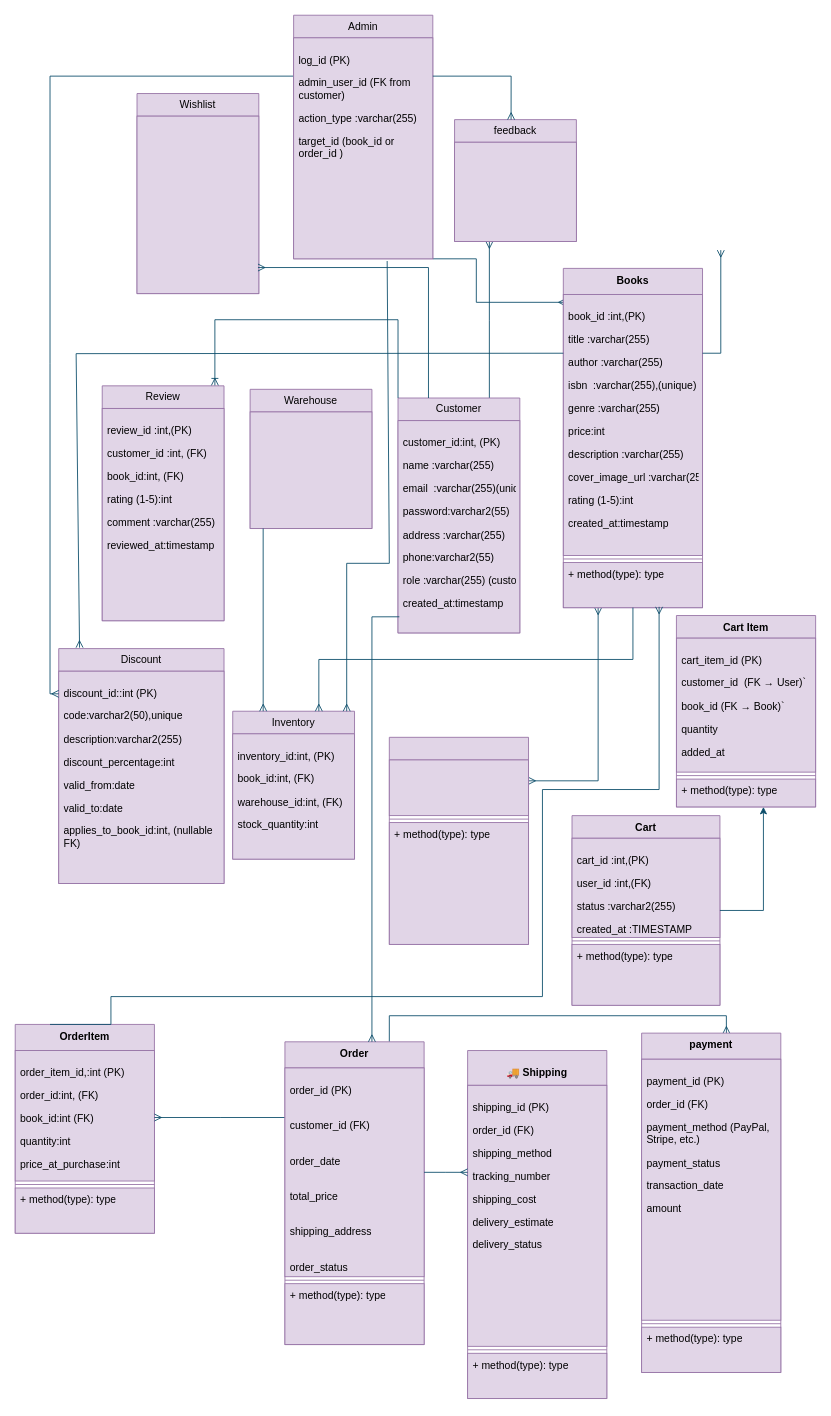
Image size: 831x1416. Some labels were removed from this diagram. The box of each missing label's shape, as (x1, y1, x2, y2) in pixels:
catagory: (388, 736, 529, 944)
category_id :int (PK) category_name: varchar2(255): (388, 759, 529, 816)
feedback_id:int, (PK) customer_id:int message submitted_at :timestamp: (454, 141, 576, 241)
warehouse_id :int, (PK) location : varchar(255) contact_number: varchar2(55): (249, 411, 372, 529)
wishlist_id:int, (PK) user_id:int (FK) book_id:int (FK) added_at :timestamp: (136, 115, 259, 294)
